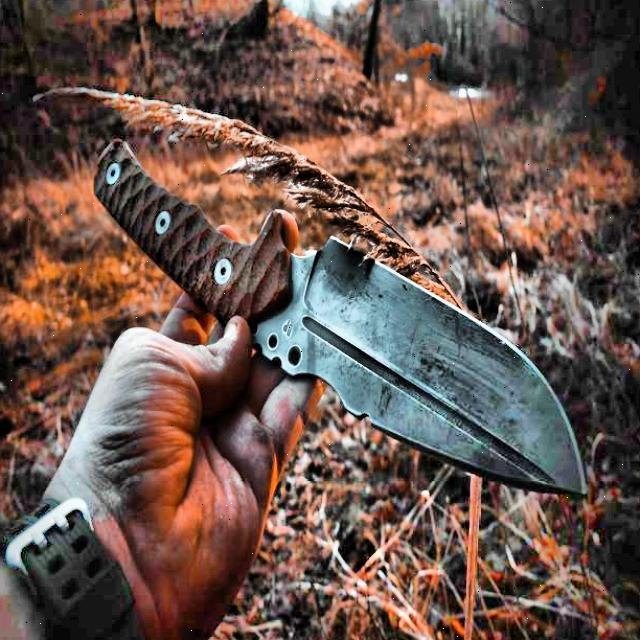knife: (92, 133, 575, 479)
